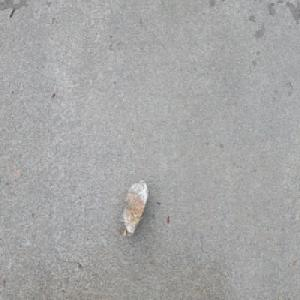Rock: (120, 178, 149, 236)
